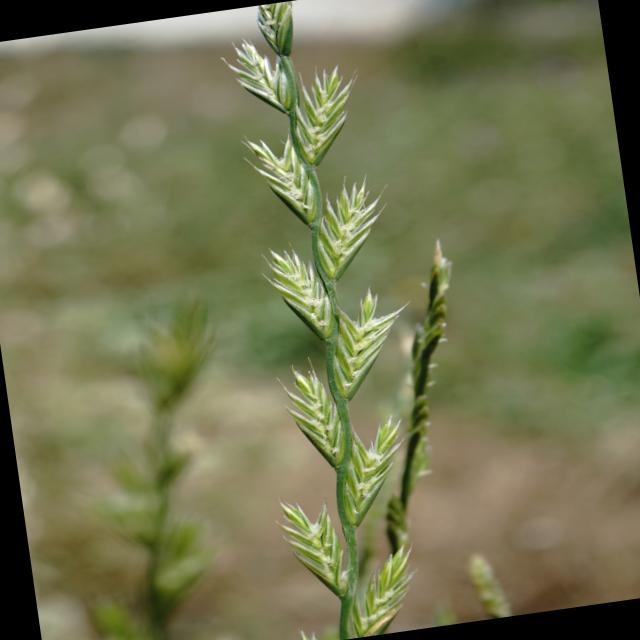Lolium: (203, 0, 506, 640)
